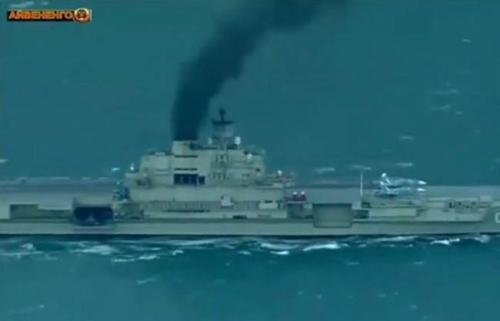smoke: (170, 1, 324, 142)
